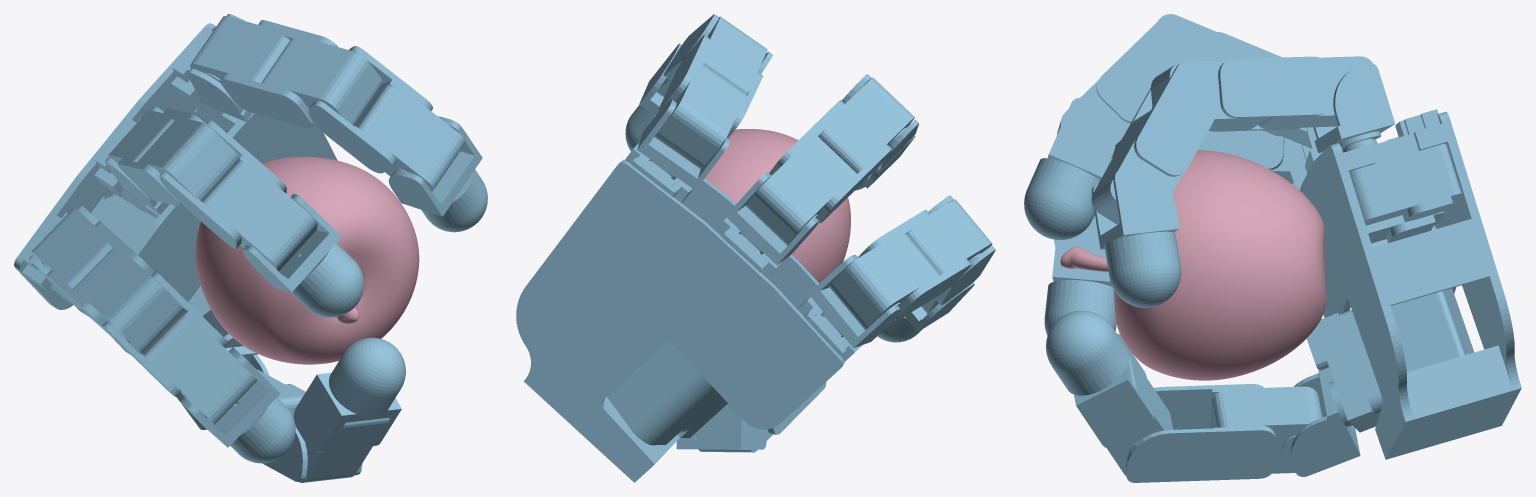
The picture shows the model from 3 angles, left to right: view 1: azimuth 30°, elevation 25°; view 2: azimuth 150°, elevation 25°; view 3: azimuth 270°, elevation 25°; orthographic projection. The views are drawn at different scales.
Parts seen in each view (by area): view 1: world, apple.stl; view 2: world, apple.stl; view 3: world, apple.stl.
Boxes of the visible parts, <box> form: world: <box>14,14,487,482</box>; apple.stl: <box>195,156,419,364</box>; world: <box>516,14,995,482</box>; apple.stl: <box>705,129,850,283</box>; world: <box>1024,14,1521,482</box>; apple.stl: <box>1060,150,1326,380</box>.
Bounding box in the file's own units: 0.1568 × 0.1598 × 0.165.
